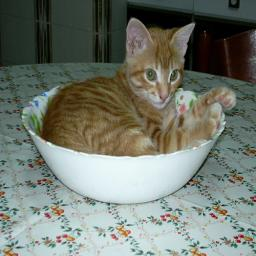catnose: (158, 94, 168, 104)
